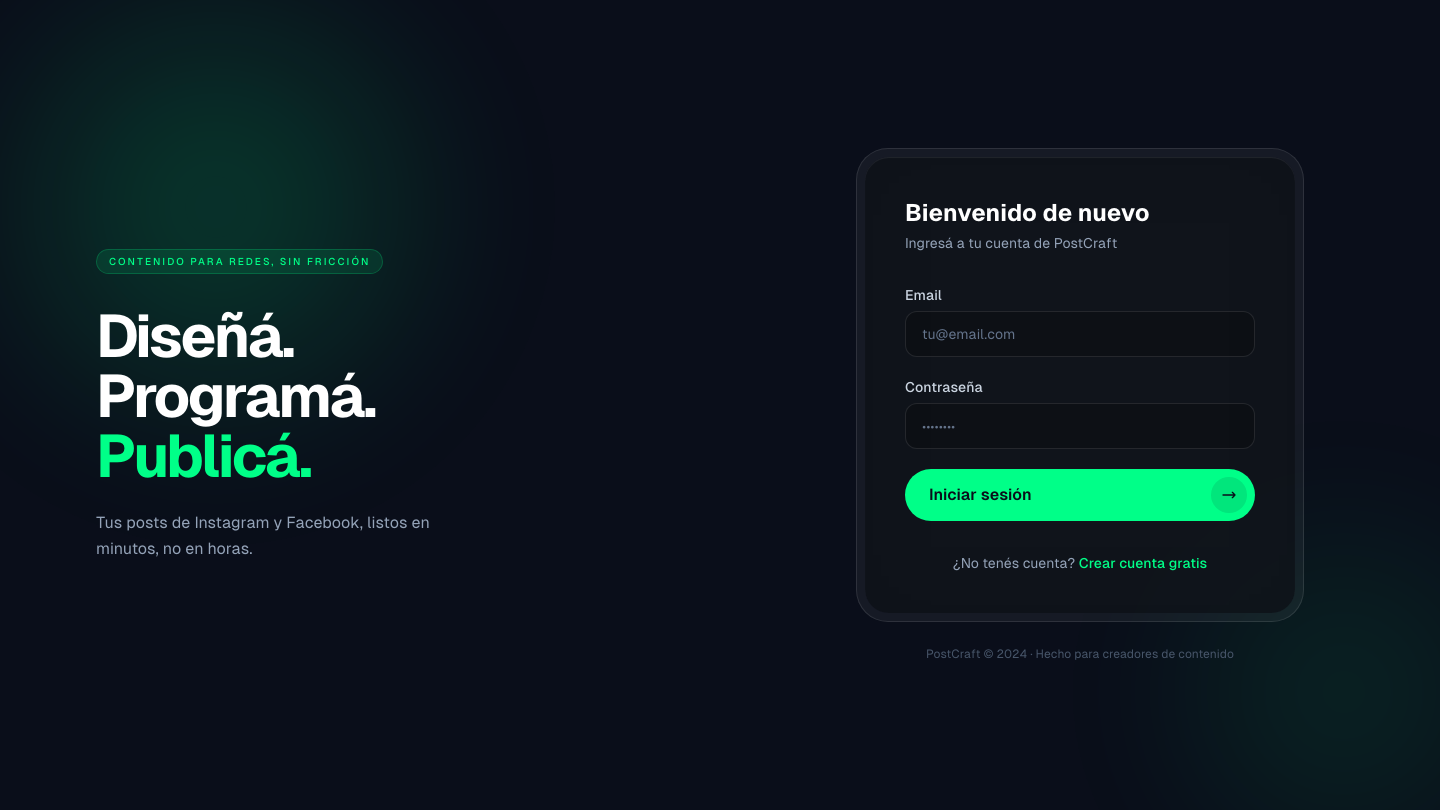
Test: Login › muestra error si el email está vacío
The width and height of the screenshot is (1440, 810).
Click the button "Iniciar sesión": click(980, 494) [905,469,1255,521]
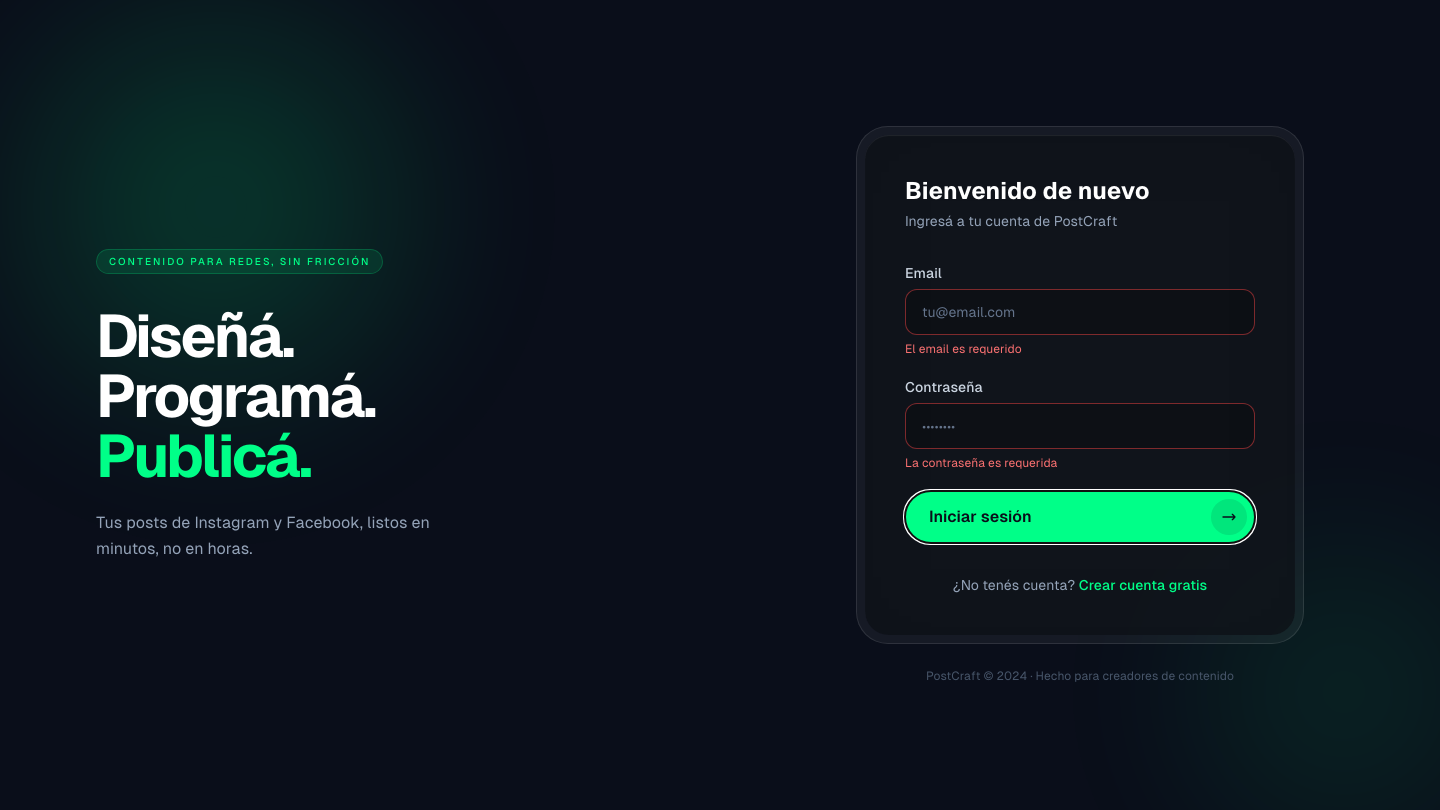
Check: the text "El email es requerido" is shown, box [905,342,1022,356]
